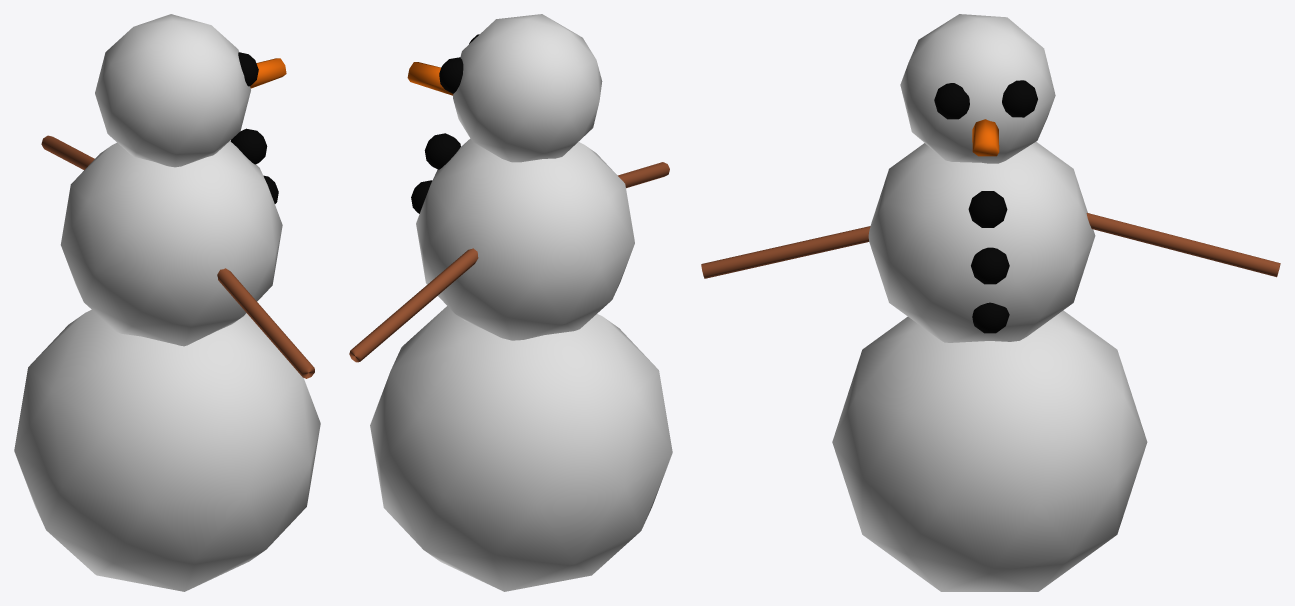
Rendered from Bonhomme_high_poly.fbx.
3 renders of one model, left to right at view 1: azimuth 30°, elevation 25°; view 2: azimuth 150°, elevation 25°; view 3: azimuth 270°, elevation 25°, orthographic.
Parts seen in each view (by area): view 1: Icosphere, Icosphere.001, Cylinder.003, Cylinder.002, Icosphere.005, Cylinder.001; view 2: Icosphere, Icosphere.001, Cylinder.003, Cylinder.001, Icosphere.005, Cylinder.002; view 3: Icosphere, Icosphere.001, Cylinder.003, Cylinder.001, Cylinder.002, Icosphere.005, Icosphere.006, Icosphere.007.
Part boxes in pixels (x1,y1,x2,y2): Icosphere: (14,309,320,591); Icosphere.001: (60,141,282,346); Cylinder.003: (95,14,286,167); Cylinder.002: (217,268,314,378); Icosphere.005: (230,128,267,164); Cylinder.001: (41,135,94,169); Icosphere: (370,306,672,591); Icosphere.001: (416,138,634,340); Cylinder.003: (407,14,602,162); Cylinder.001: (349,248,478,362); Icosphere.005: (424,133,460,169); Cylinder.002: (618,162,669,188); Icosphere: (832,310,1147,591); Icosphere.001: (868,141,1095,342); Cylinder.003: (900,14,1055,163); Cylinder.001: (1086,213,1280,277); Cylinder.002: (701,226,870,278); Icosphere.005: (968,191,1007,227); Icosphere.006: (971,247,1009,284); Icosphere.007: (972,302,1009,333).
Size of the model in its own units: 190 by 396 by 368.
